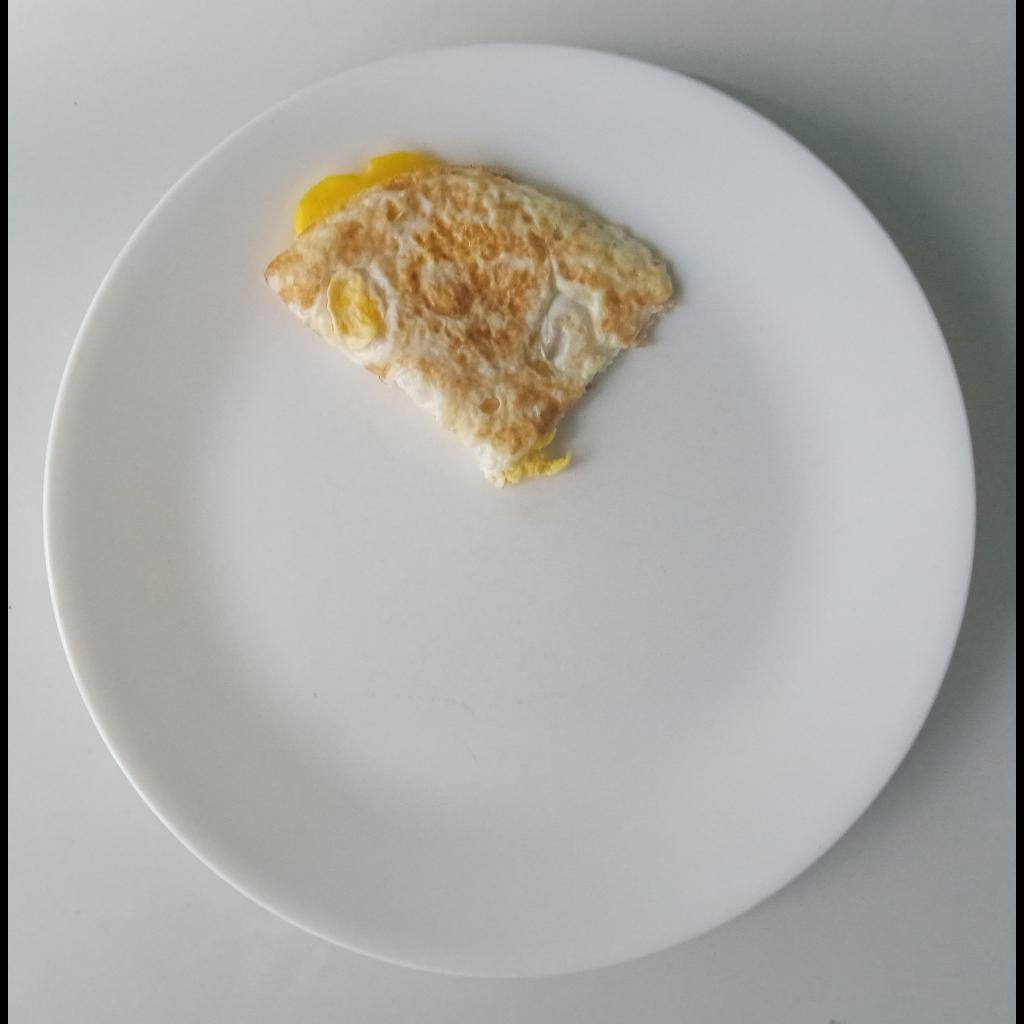egg-poached: (265, 152, 676, 492)
